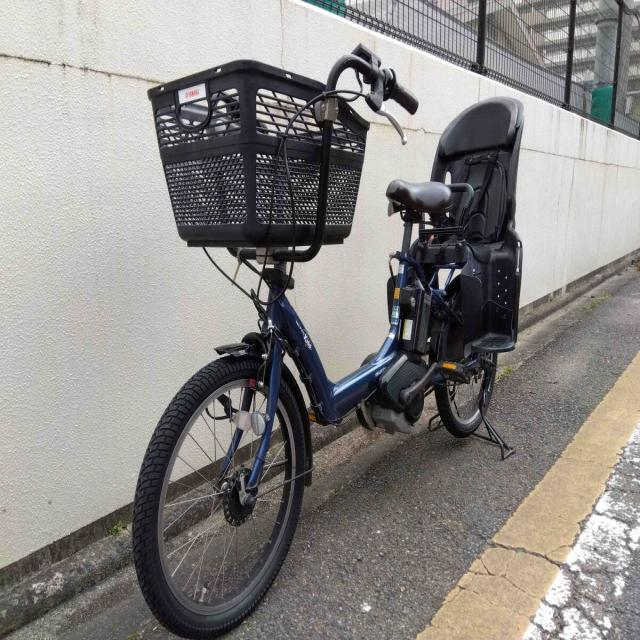basket: (145, 56, 373, 253)
battery: (400, 283, 430, 363)
childseat: (407, 92, 528, 352)
